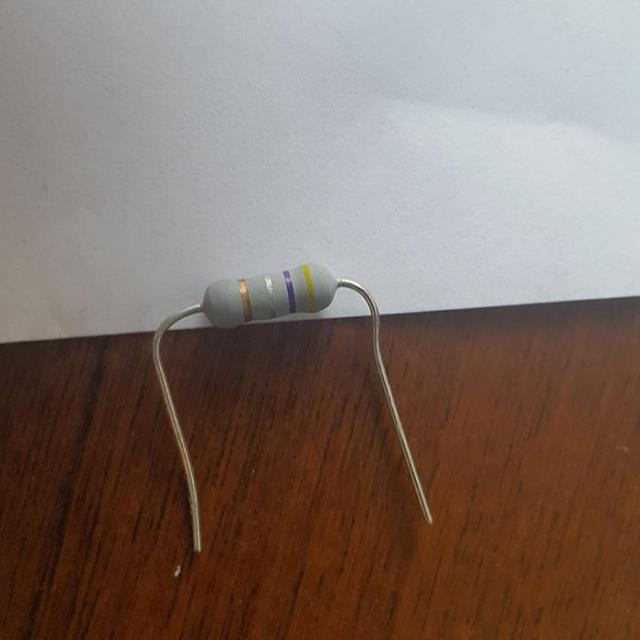Resistor: (202, 263, 339, 327)
gold: (236, 279, 252, 322)
purple: (283, 270, 297, 313)
silver: (263, 272, 277, 317)
yellow: (301, 264, 315, 312)
